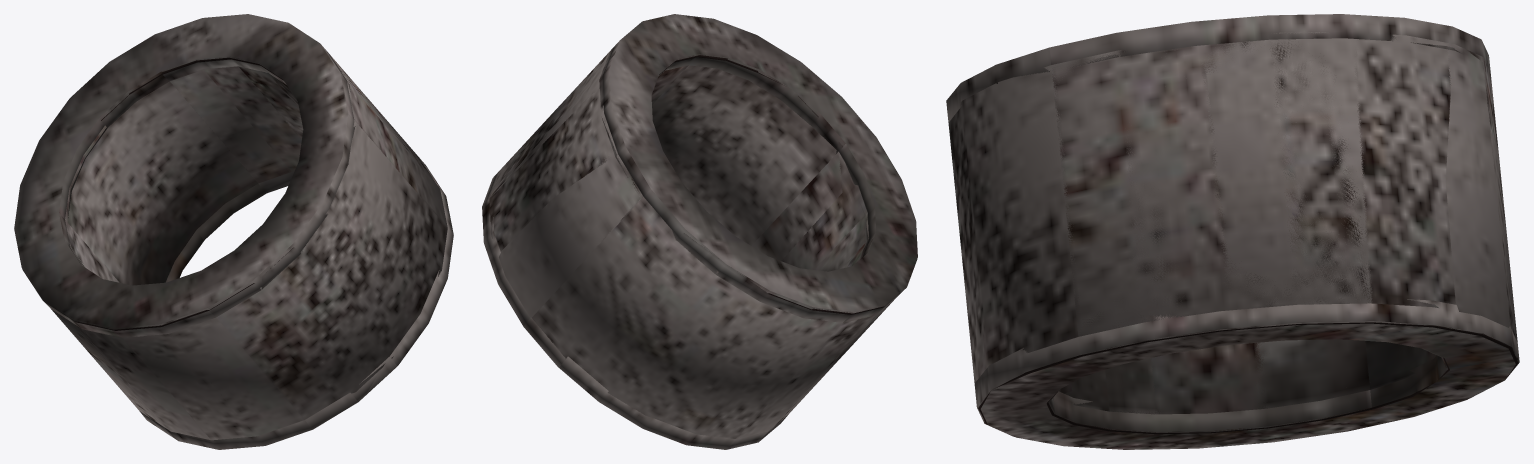
The model's file is item4.fbx.
3 views of the same model, side by side, from view 1: azimuth 30°, elevation 25°; view 2: azimuth 150°, elevation 25°; view 3: azimuth 270°, elevation 25° (orthographic). The views are drawn at different scales.
Visible parts, largest first — view 1: Item4; view 2: Item4; view 3: Item4.
Part boxes in pixels (left/top/right/bottom): Item4: left=14, top=14, right=453, bottom=449; Item4: left=482, top=14, right=917, bottom=449; Item4: left=946, top=14, right=1519, bottom=449.
Size of the model in its own units: 123 by 115 by 114.
